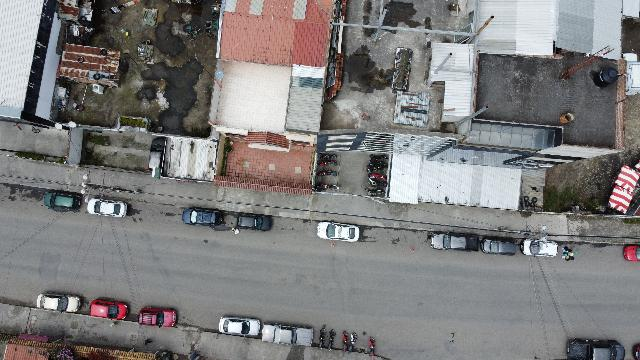Vehiculo: (262, 321, 314, 347), (567, 338, 625, 360), (428, 231, 480, 254), (218, 316, 260, 338), (317, 222, 359, 243), (37, 293, 81, 313), (90, 298, 128, 320), (87, 198, 127, 218), (138, 307, 176, 327), (43, 192, 81, 212), (148, 137, 168, 175), (183, 208, 225, 226), (520, 240, 558, 256), (482, 239, 516, 255), (236, 215, 270, 231), (624, 245, 640, 261)
